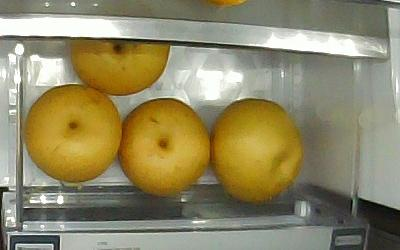pear: (212, 98, 304, 203), (25, 85, 121, 184), (121, 98, 211, 198), (69, 37, 171, 96)
